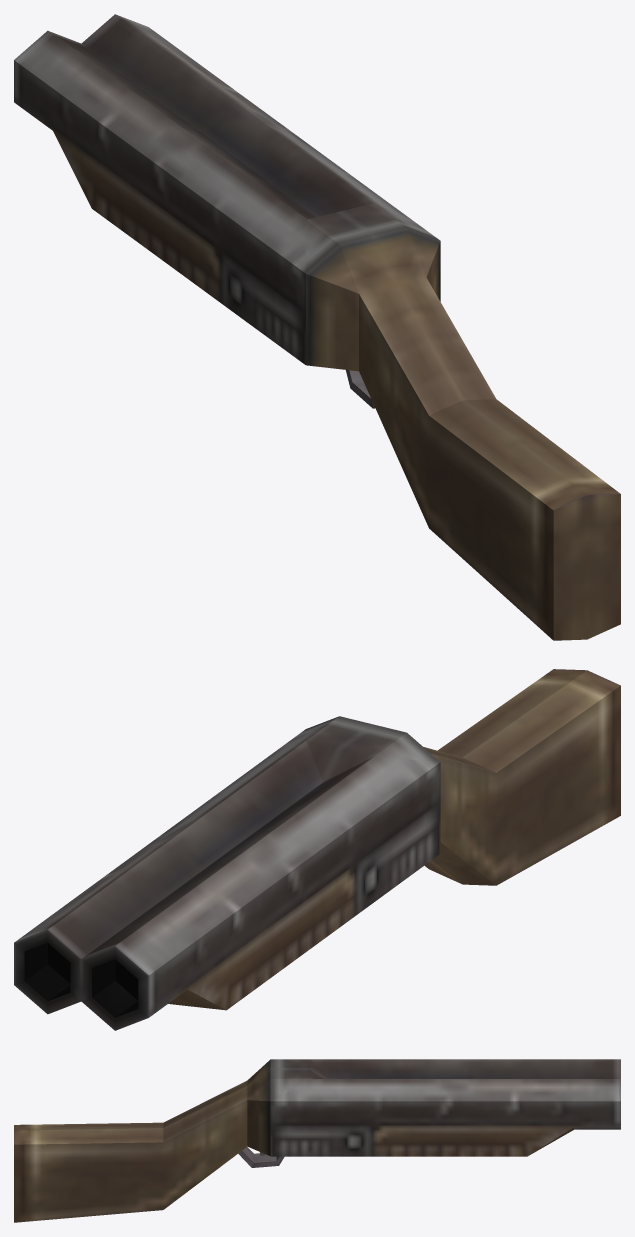
File: shotgun.dae
3 renders of one model, top to bottom at view 1: azimuth 30°, elevation 25°; view 2: azimuth 150°, elevation 25°; view 3: azimuth 270°, elevation 25°, orthographic. The views are drawn at different scales.
Visible parts, largest first — view 1: shotgun; view 2: shotgun; view 3: shotgun.
Boxes of the visible parts, box(x1,y1,x2,y2) form: shotgun: box(14, 14, 620, 640); shotgun: box(14, 669, 620, 1030); shotgun: box(14, 1059, 620, 1222).
Bounding box in the file's own units: 0.2 × 1.3 × 0.35.
